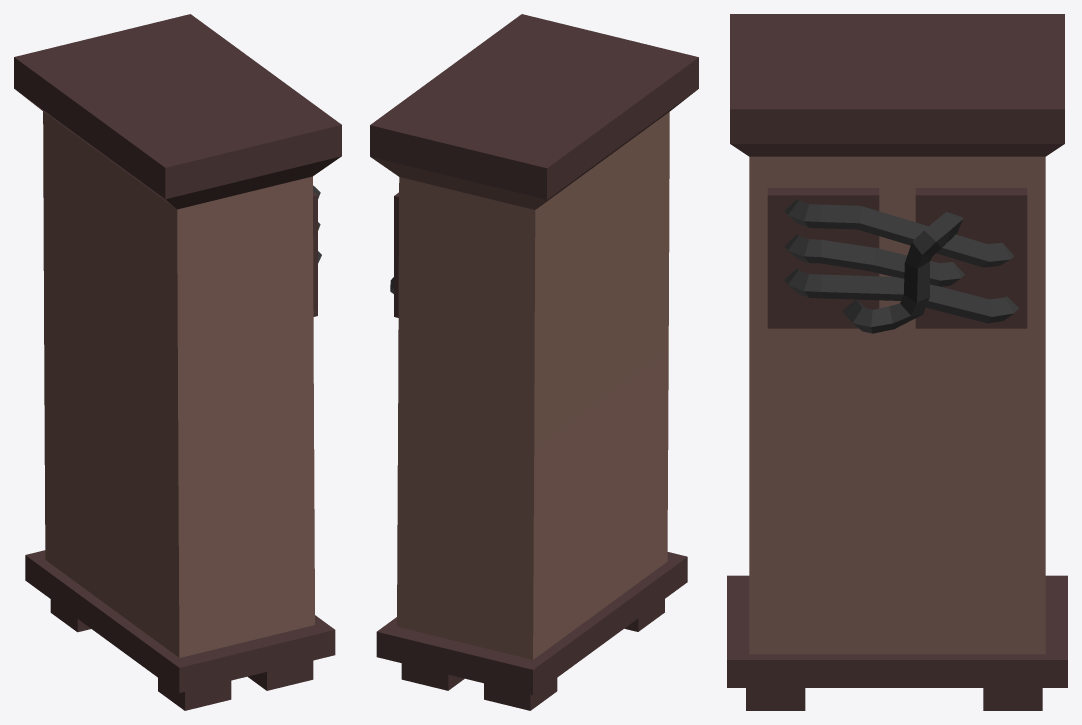
File: DarkRoseWoodMechMediumConsole1.fbx
3 views of the same model, side by side, from view 1: azimuth 30°, elevation 25°; view 2: azimuth 150°, elevation 25°; view 3: azimuth 270°, elevation 25° (orthographic). The views are drawn at different scales.
Parts seen in each view (by area): view 1: DarkRoseWoodMechMediumConsole1; view 2: DarkRoseWoodMechMediumConsole1; view 3: DarkRoseWoodMechMediumConsole1.
Boxes of the visible parts, bbox=[...] form: DarkRoseWoodMechMediumConsole1: bbox=[14, 14, 341, 710]; DarkRoseWoodMechMediumConsole1: bbox=[370, 14, 698, 710]; DarkRoseWoodMechMediumConsole1: bbox=[727, 14, 1067, 710].
Bounding box in the file's own units: 172 × 442 × 223.
